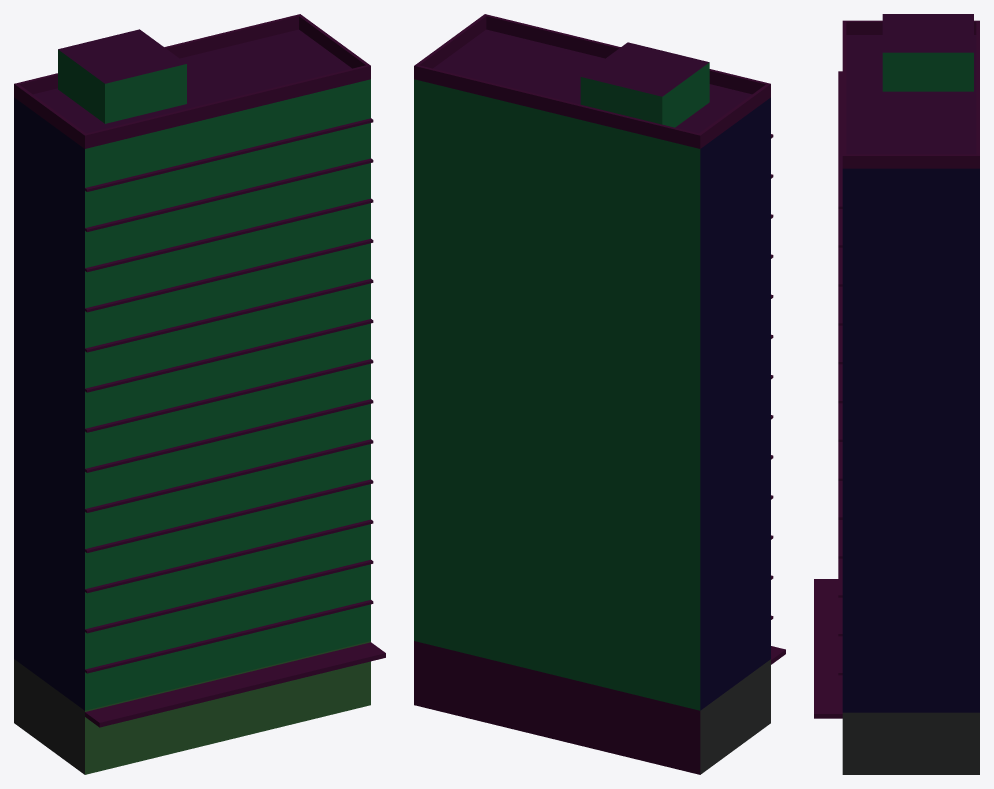
File: slab_k.lod2.glb
3 renders of one model, left to right at view 1: azimuth 30°, elevation 25°; view 2: azimuth 150°, elevation 25°; view 3: azimuth 270°, elevation 25°, orthographic. The views are drawn at different scales.
Visible parts, largest first — view 1: slab_k.lod2; view 2: slab_k.lod2; view 3: slab_k.lod2.
Boxes of the visible parts, <box> form: slab_k.lod2: <box>14,14,385,774</box>; slab_k.lod2: <box>414,14,785,774</box>; slab_k.lod2: <box>814,14,979,774</box>.
Bounding box in the file's own units: 22.4 × 49.8 × 11.6.
